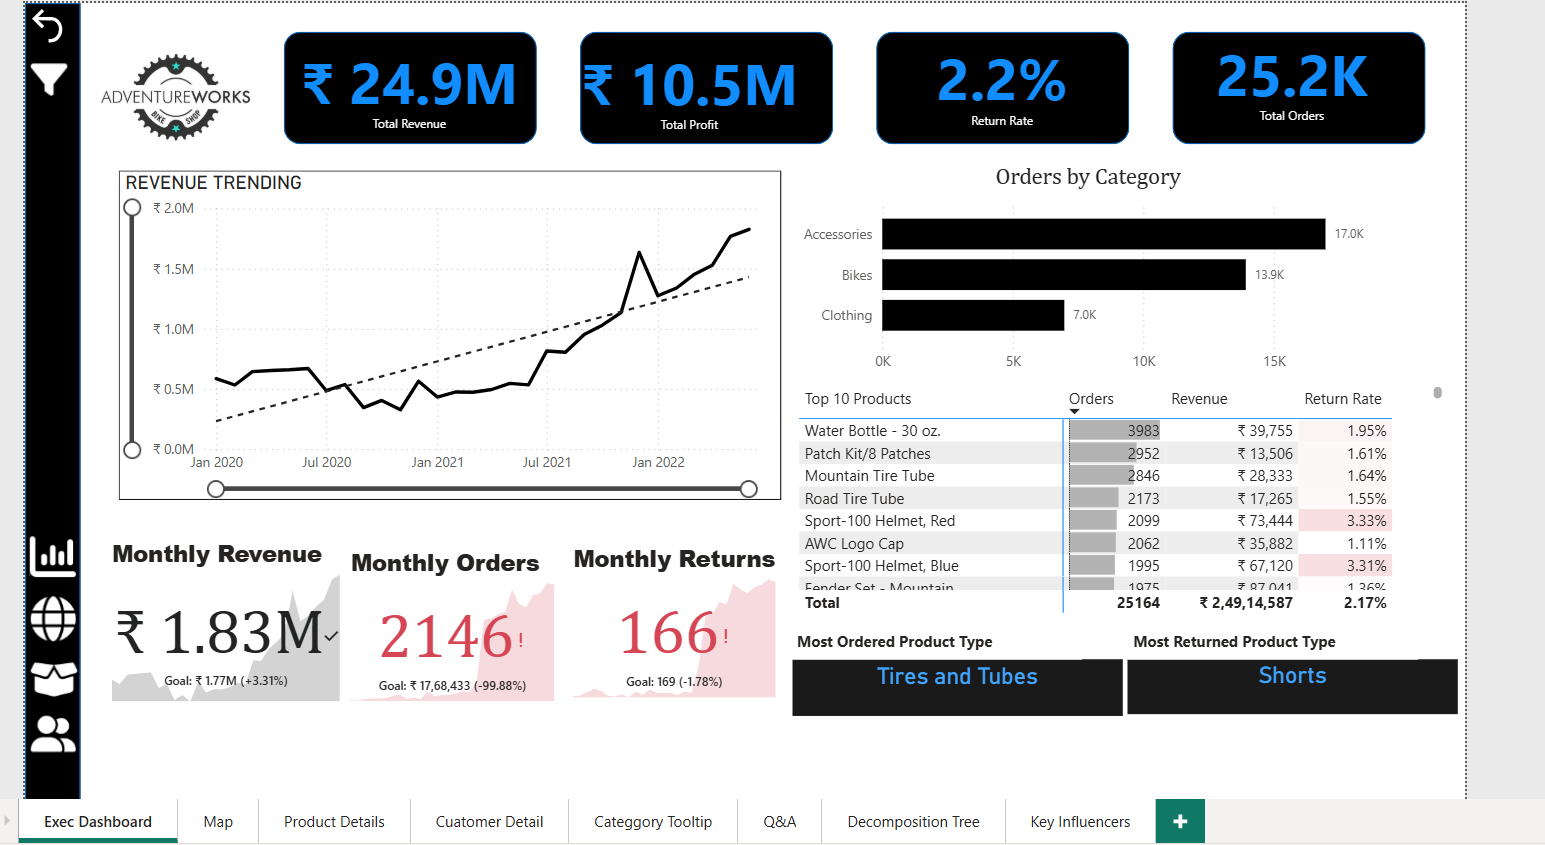

The dashboard page shown, as its layout file describes it:
{"tool":"powerbi","page":{"name":"Exec Dashboard","canvas":[1280,720],"ordinal":0},"visuals":[{"type":"shape","title":"left new background","box":[0,0,49.3,720],"z":0},{"type":"card","fields":{"Values":["Measure Table.Total Orders"]},"box":[996.1,1.3,261.5,134.6],"z":0,"group":"g2"},{"type":"shape","box":[492.8,25.6,225,100],"z":0,"group":"g1"},{"type":"actionButton","box":[0,460.8,49.4,62],"z":0,"group":"g3"},{"type":"card","fields":{"Values":["Measure Table.Total Revenue"]},"box":[211.5,7.7,261.5,134.6],"z":1000,"group":"g2"},{"type":"image","box":[48.8,17.5,171.2,132.5],"z":1000},{"type":"shape","box":[229.5,25.6,225,100],"z":1000,"group":"g1"},{"type":"actionButton","box":[1.6,523.2,68.4,48.1],"z":1000,"group":"g3"},{"type":"card","fields":{"Values":["Measure Table.Total Profit"]},"box":[460.2,9,261.5,134.6],"z":2000,"group":"g2"},{"type":"shape","box":[756.2,25.6,225,100],"z":2000,"group":"g1"},{"type":"lineChart","title":"REVENUE TRENDING","fields":{"Category":["Calendar Lookup.Start of Month"],"Y":["Measure Table.Total Revenue"]},"box":[83.1,149.3,588.7,293],"z":2000},{"type":"actionButton","box":[1.3,576,68.4,49.4],"z":2000,"group":"g3"},{"type":"card","fields":{"Values":["Measure Table.Return Rate"]},"box":[737.1,1.3,264.1,142.3],"z":3000,"group":"g2"},{"type":"group","id":"g1","title":"Left New Background","box":[229.5,25.6,1015.4,100],"z":3000},{"type":"shape","box":[1019.5,25.6,225,100],"z":3000,"group":"g1"},{"type":"actionButton","box":[1.3,625.4,100,48.1],"z":3000,"group":"g3"},{"type":"kpi","title":"Monthly Revenue","fields":{"Indicator":["Measure Table.Total Revenue"],"TrendLine":["Calendar Lookup.Start of Month"],"Goal":["Measure Table.Previous Month Revenue"]},"box":[72.1,474.5,212.8,151.6],"z":4000},{"type":"kpi","title":"Monthly Orders","fields":{"TrendLine":["Calendar Lookup.Start of Month"],"Goal":["Measure Table.Previous Month Revenue"],"Indicator":["Measure Table.Total Orders"]},"box":[284.4,482.2,191.1,143.3],"z":5000},{"type":"kpi","title":"Monthly Returns","fields":{"TrendLine":["Calendar Lookup.Start of Month"],"Indicator":["Measure Table.Total Returns"],"Goal":["Measure Table.Previous Month Returns"]},"box":[482.2,478.9,190,143.3],"z":6000},{"type":"clusteredBarChart","title":"Orders by Category","fields":{"Y":["Measure Table.Total Orders"],"Category":["Product Categories Lookup.CategoryName"]},"box":[682.7,144,525.3,192],"z":7000},{"type":"pivotTable","fields":{"Rows":["Product Lookup.ProductName"],"Values":["Measure Table.Total Orders","Measure Table.Total Revenue","Measure Table.Return Rate"]},"box":[683.3,335,581.7,211.7],"z":8000},{"type":"card","fields":{"Values":["Min(Product Subcategories Lookup.SubcategoryName)"]},"box":[681.7,583.3,293.3,50],"z":9000},{"type":"textbox","box":[681.5,553.8,258.8,30],"z":10000},{"type":"card","fields":{"Values":["Min(Product Subcategories Lookup.SubcategoryName)"]},"box":[980.5,583.8,293.8,48.8],"z":11000},{"type":"textbox","box":[980.5,553.8,258.8,30],"z":12000},{"type":"group","id":"g2","title":"Group 1","box":[211.5,1.3,1046.2,142.3],"z":13000},{"type":"actionButton","box":[0,0,100,40],"z":14000},{"type":"group","id":"g3","title":"Navigation Buttons","box":[0,460.8,101.3,212.7],"z":15000},{"type":"actionButton","box":[1.3,48.1,49.4,40.5],"z":16000}]}

Visuals, with their boxes on the page's 1280x720 design canvas (x1, y1, x2, y2). These are canvas units, not pixel positions in the 1545x845 screenshot, which may show the page scaled, cropped or inside an application window:
"left new background" shape: detection(0, 0, 49, 720)
card - Measure Table.Total Orders: detection(996, 1, 1258, 136)
shape: detection(493, 26, 718, 126)
actionButton: detection(0, 461, 49, 523)
card - Measure Table.Total Revenue: detection(212, 8, 473, 142)
image: detection(49, 18, 220, 150)
shape: detection(230, 26, 454, 126)
actionButton: detection(2, 523, 70, 571)
card - Measure Table.Total Profit: detection(460, 9, 722, 144)
shape: detection(756, 26, 981, 126)
"REVENUE TRENDING" lineChart: detection(83, 149, 672, 442)
actionButton: detection(1, 576, 70, 625)
card - Measure Table.Return Rate: detection(737, 1, 1001, 144)
"Left New Background" group: detection(230, 26, 1245, 126)
shape: detection(1020, 26, 1244, 126)
actionButton: detection(1, 625, 101, 674)
"Monthly Revenue" kpi: detection(72, 474, 285, 626)
"Monthly Orders" kpi: detection(284, 482, 476, 626)
"Monthly Returns" kpi: detection(482, 479, 672, 622)
"Orders by Category" clusteredBarChart: detection(683, 144, 1208, 336)
pivotTable - Product Lookup.ProductName x Measure Table.Total Orders: detection(683, 335, 1265, 547)
card - Min(Product Subcategories Lookup.SubcategoryName): detection(682, 583, 975, 633)
textbox: detection(682, 554, 940, 584)
card - Min(Product Subcategories Lookup.SubcategoryName): detection(980, 584, 1274, 633)
textbox: detection(980, 554, 1239, 584)
"Group 1" group: detection(212, 1, 1258, 144)
actionButton: detection(0, 0, 100, 40)
"Navigation Buttons" group: detection(0, 461, 101, 674)
actionButton: detection(1, 48, 51, 89)
